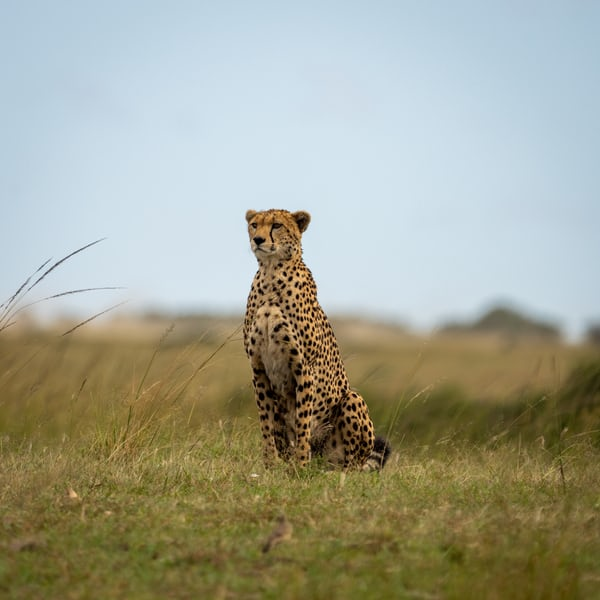cheetah: (221, 192, 322, 271)
